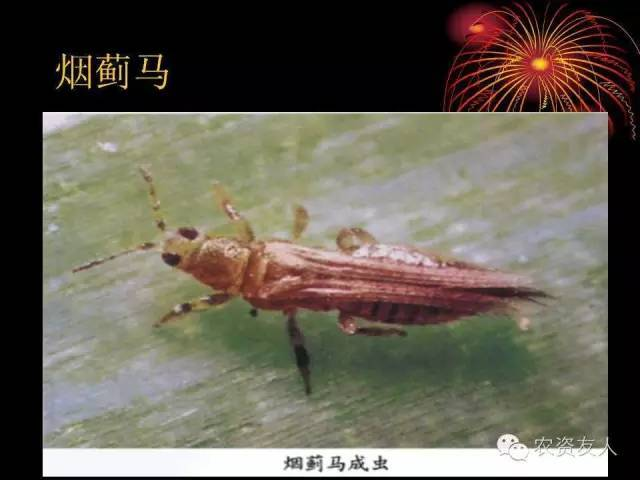Thripidae: (70, 168, 560, 390)
